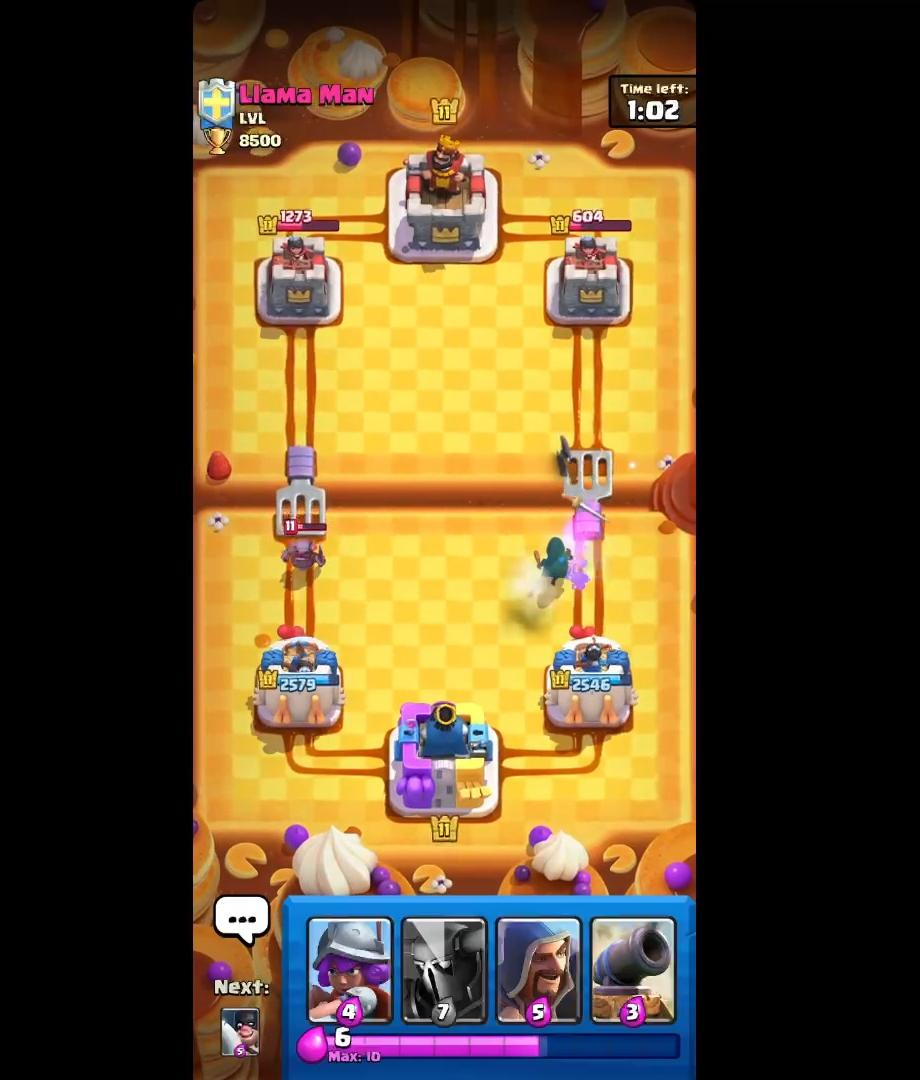Mini Pekka: (277, 498, 329, 576)
